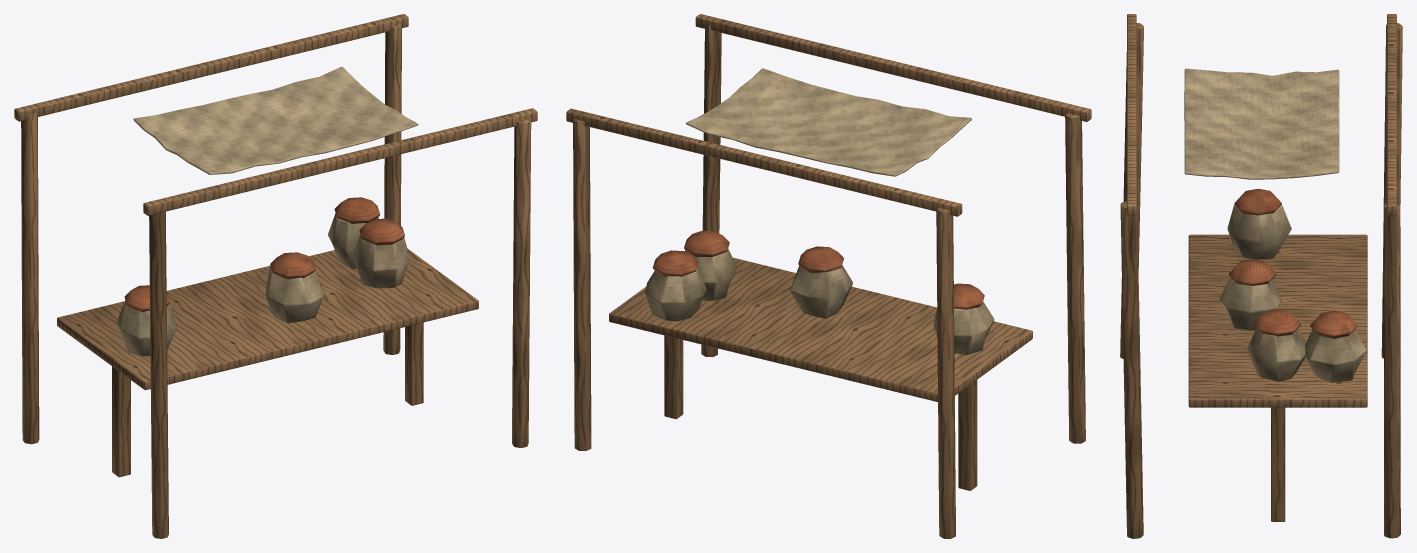
The model's file is canopy_grain.glb.
3 views of the same model, side by side, from view 1: azimuth 30°, elevation 25°; view 2: azimuth 150°, elevation 25°; view 3: azimuth 270°, elevation 25° (orthographic).
Visible parts, largest first — view 1: canopy_grain; view 2: canopy_grain; view 3: canopy_grain.
Part boxes in pixels (x1,y1,x2,y2): canopy_grain: (14, 14, 537, 538); canopy_grain: (566, 14, 1091, 538); canopy_grain: (1120, 14, 1402, 538).
Bounding box in the file's own units: 2.8 × 2.29 × 1.74.
Materials: 3 (3 with a texture image).
